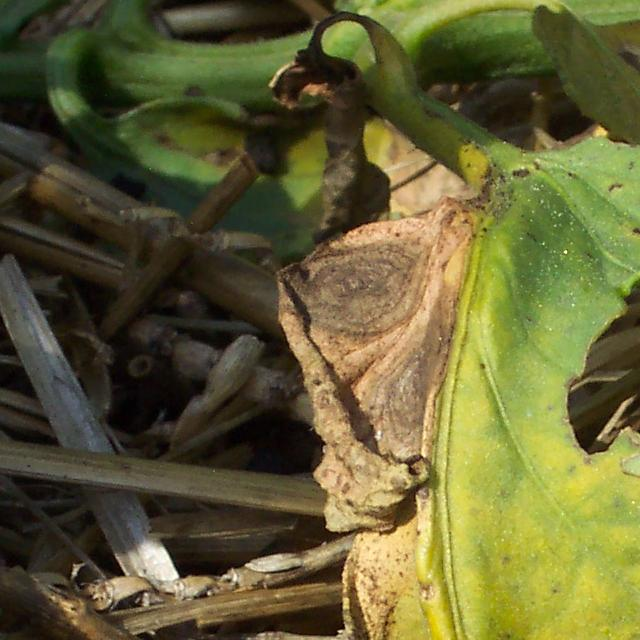Tomato Early blight leaf: (246, 76, 640, 640)
